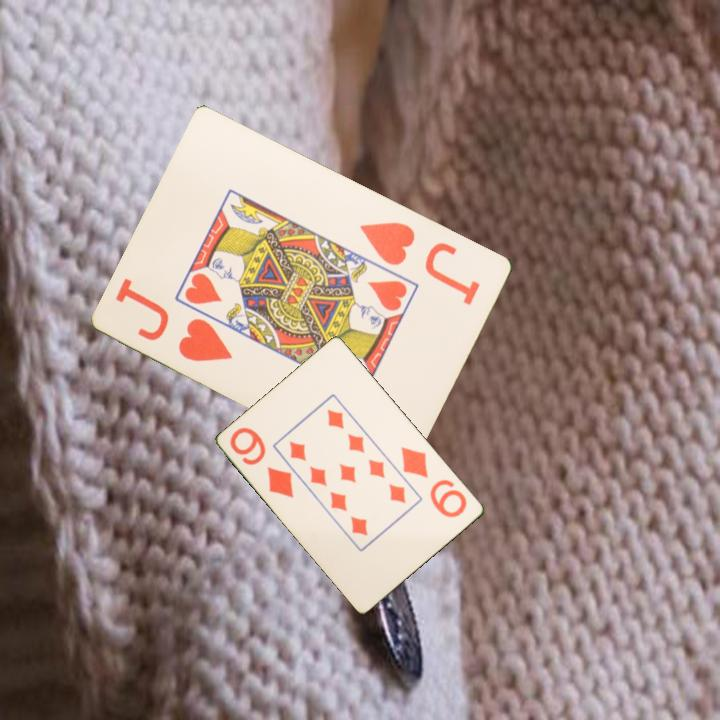9d: (398, 443, 470, 521), (226, 424, 297, 501)
Jh: (356, 217, 484, 308), (175, 314, 236, 365)
